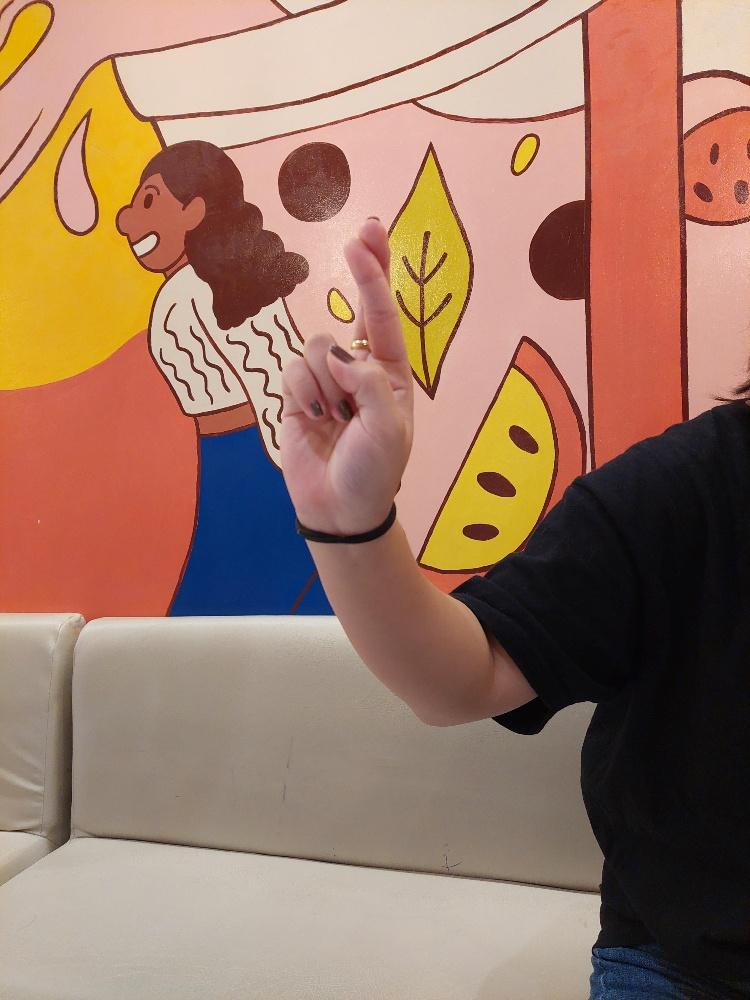r: (276, 211, 418, 535)
